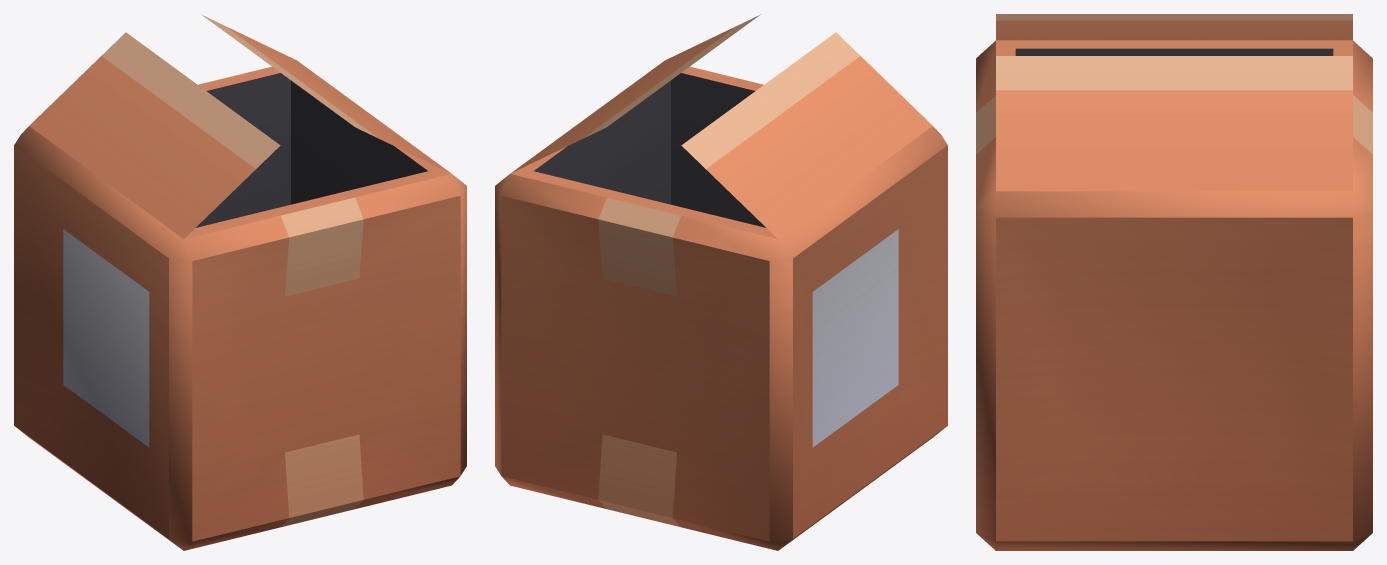
File: box-open.obj
3 views of the same model, side by side, from view 1: azimuth 30°, elevation 25°; view 2: azimuth 150°, elevation 25°; view 3: azimuth 270°, elevation 25° (orthographic). The views are drawn at different scales.
Parts seen in each view (by area): view 1: box-open; view 2: box-open; view 3: box-open.
Part boxes in pixels (<box>): box-open: <box>14,14,466,550</box>; box-open: <box>495,14,947,550</box>; box-open: <box>976,14,1372,550</box>.
Bounding box in the file's own units: 0.25 × 0.3063 × 0.25.
Materials: 1 (1 with a texture image).
